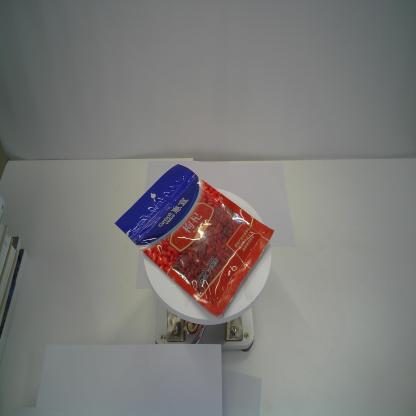Dried Fruit: (114, 163, 276, 318)
